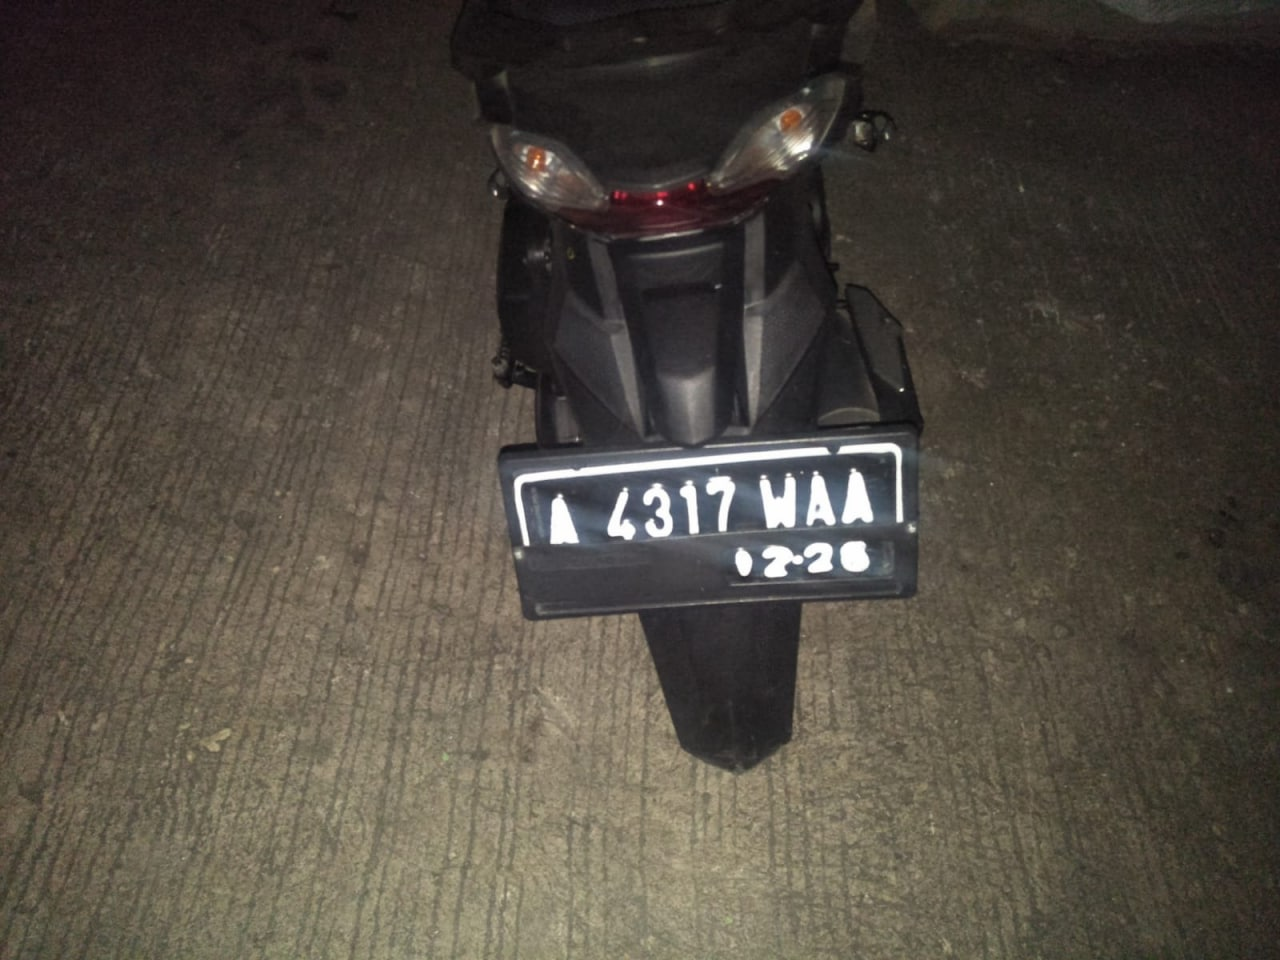plate: (513, 459, 908, 612)
